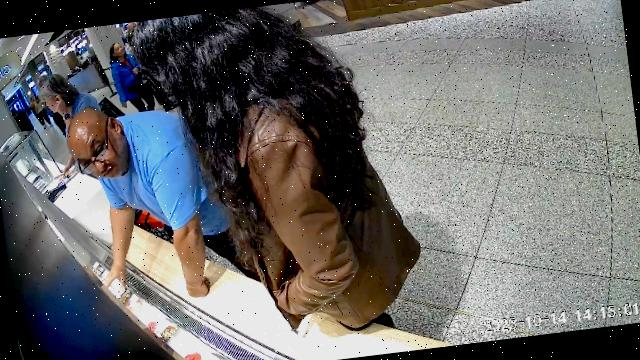sushi-box: (53, 165, 79, 186)
